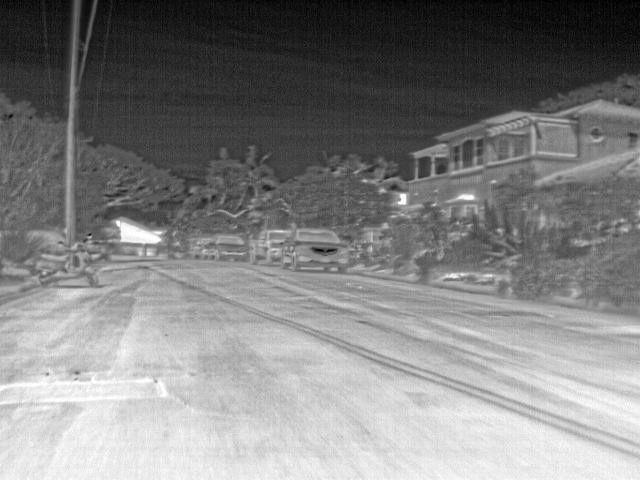car: (277, 225, 352, 273), (249, 227, 286, 265), (204, 234, 250, 262), (188, 234, 209, 260)
